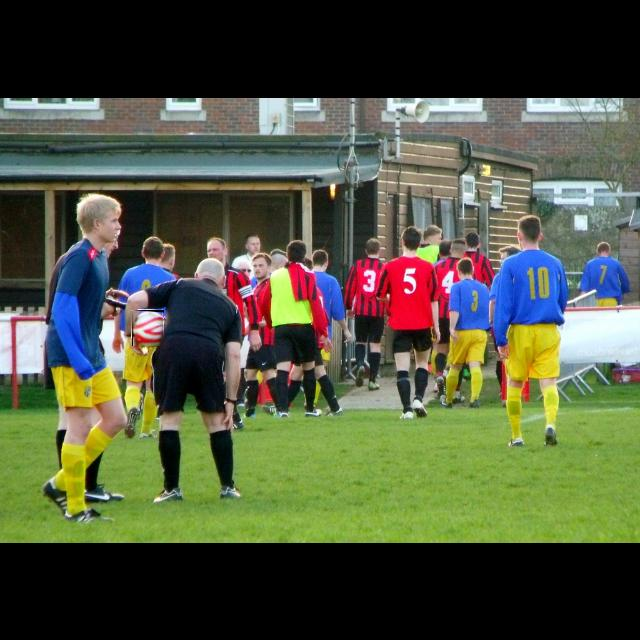Football: (132, 310, 164, 346)
